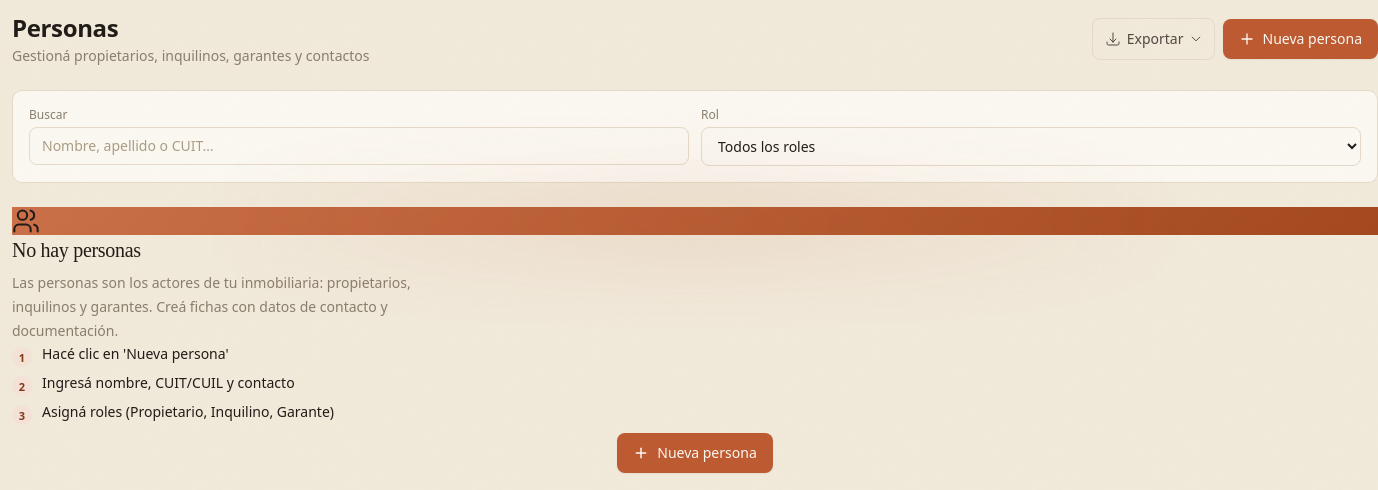
Test: PersonList › sin resultados con filtros muestra el vacío filtrado y permite limpiar
Expected: the text "No hay personas" is shown, x1=12 y1=239 x2=141 y2=261
Select "Lead" in the dropdown labelled "Rol". click: coordinates (1031, 146)
box: x1=701 y1=127 x2=1361 y2=166
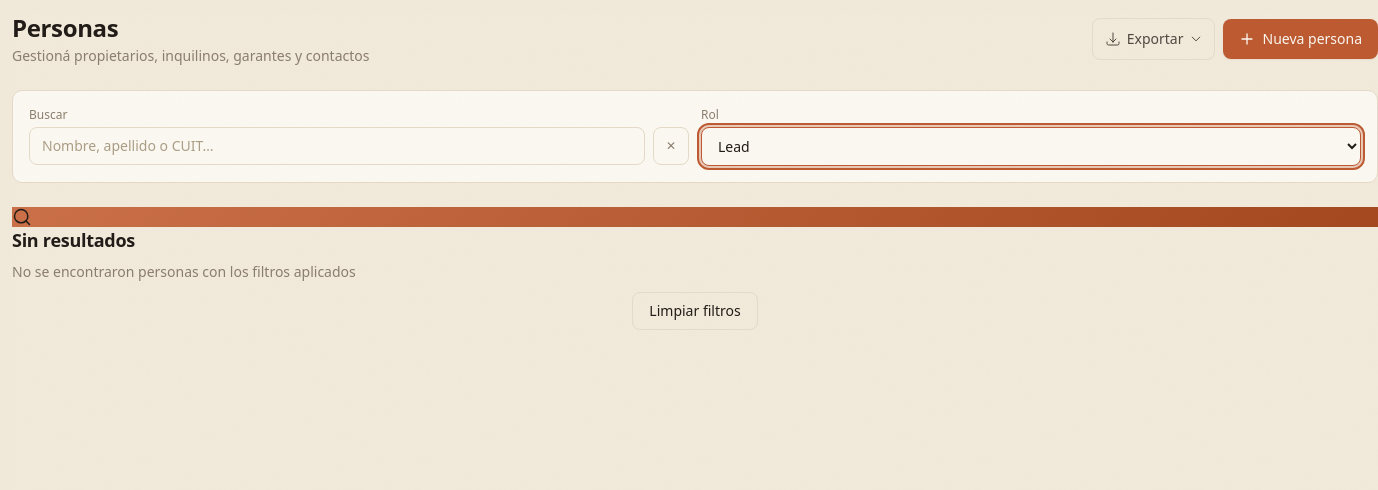
Now the text "Sin resultados" is shown, box x1=12 y1=228 x2=135 y2=252
Click the button "Limpiar filtros". click: coordinates (695, 311)
box: x1=632 y1=292 x2=758 y2=330
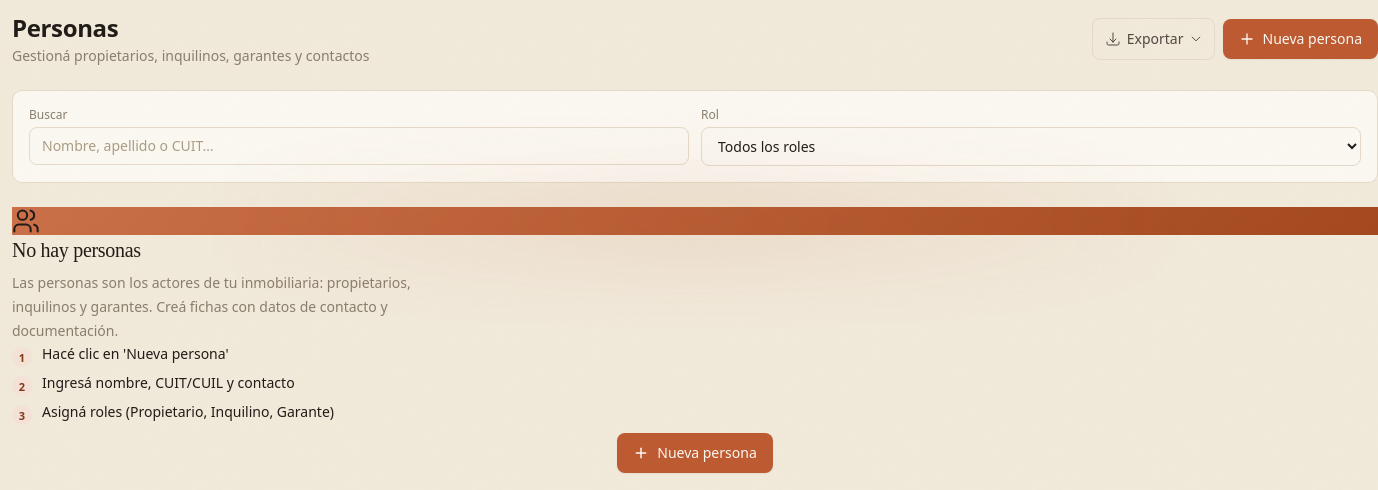
Now the text "No hay personas" is shown, box x1=12 y1=239 x2=141 y2=261
